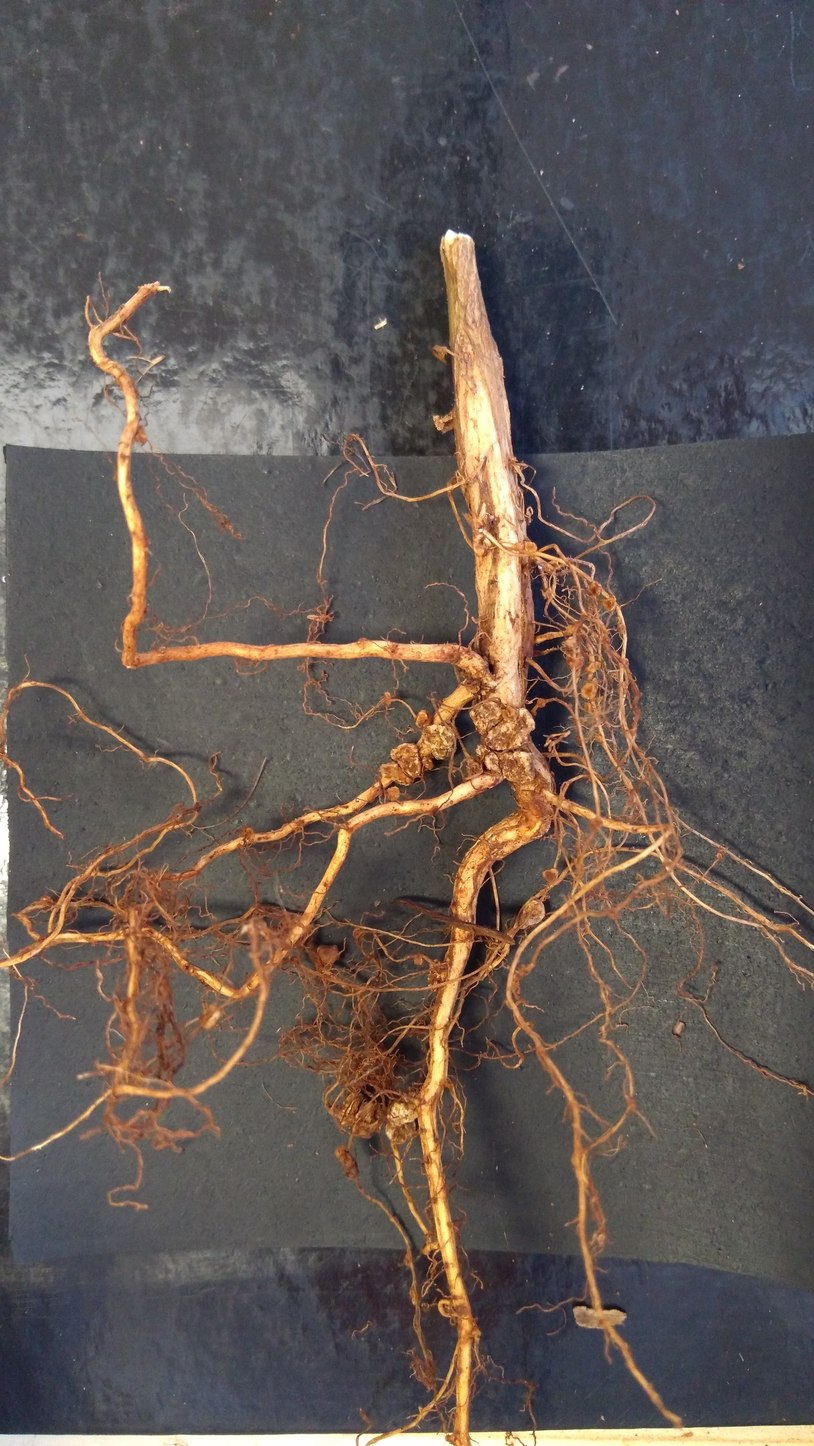nodule: (482, 706, 538, 753), (330, 1138, 365, 1187), (418, 723, 459, 761), (386, 1089, 425, 1127), (497, 749, 538, 785), (351, 1100, 387, 1141), (466, 701, 505, 735), (388, 741, 422, 779), (516, 895, 549, 933), (377, 761, 417, 789), (336, 1089, 362, 1127), (425, 959, 452, 994), (384, 1118, 418, 1144), (314, 942, 342, 968), (197, 1003, 223, 1029), (410, 707, 433, 732), (565, 649, 586, 670), (472, 533, 492, 555), (583, 657, 606, 676), (541, 866, 562, 886), (519, 537, 541, 556), (561, 634, 583, 651), (483, 750, 500, 772), (580, 682, 599, 700), (541, 558, 562, 574), (384, 784, 402, 802), (587, 579, 604, 598), (600, 595, 618, 612), (473, 742, 491, 759), (419, 755, 435, 773), (531, 695, 548, 711), (382, 689, 393, 710), (613, 616, 626, 633), (412, 952, 425, 966)
